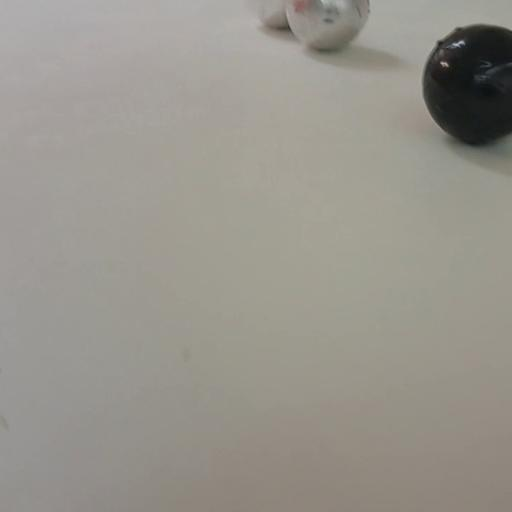alive: (284, 0, 367, 51), (258, 0, 293, 29)
dead: (418, 21, 512, 147)
